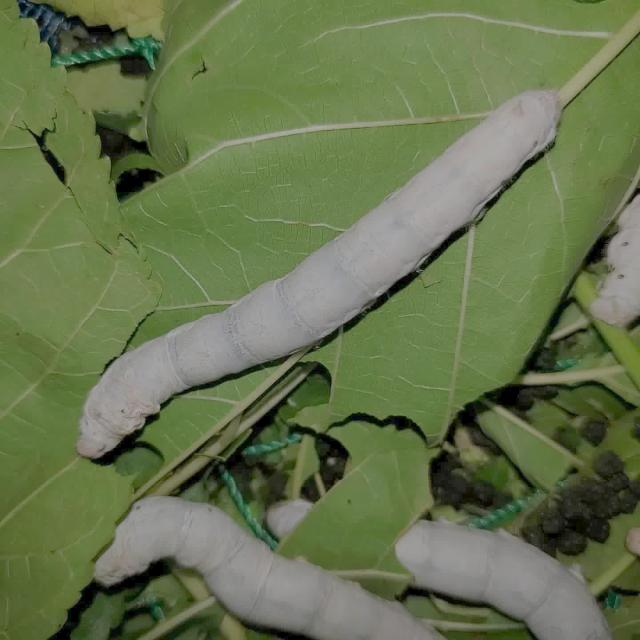Healthy: (63, 64, 561, 464)
